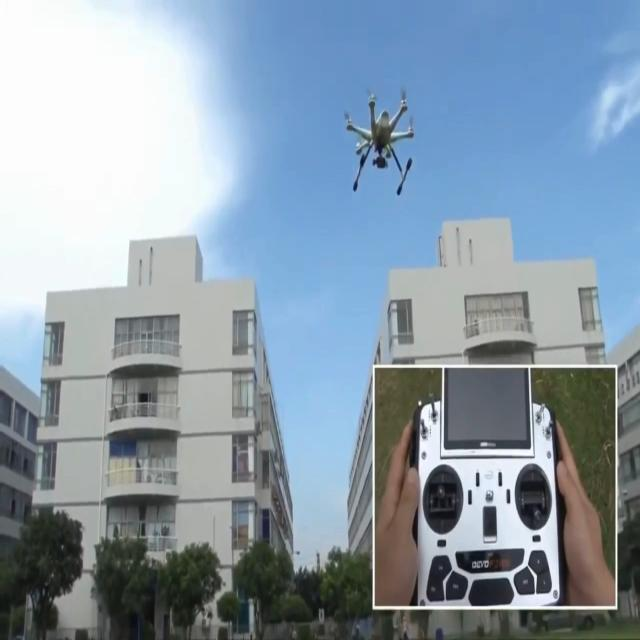drone: (344, 87, 414, 196)
